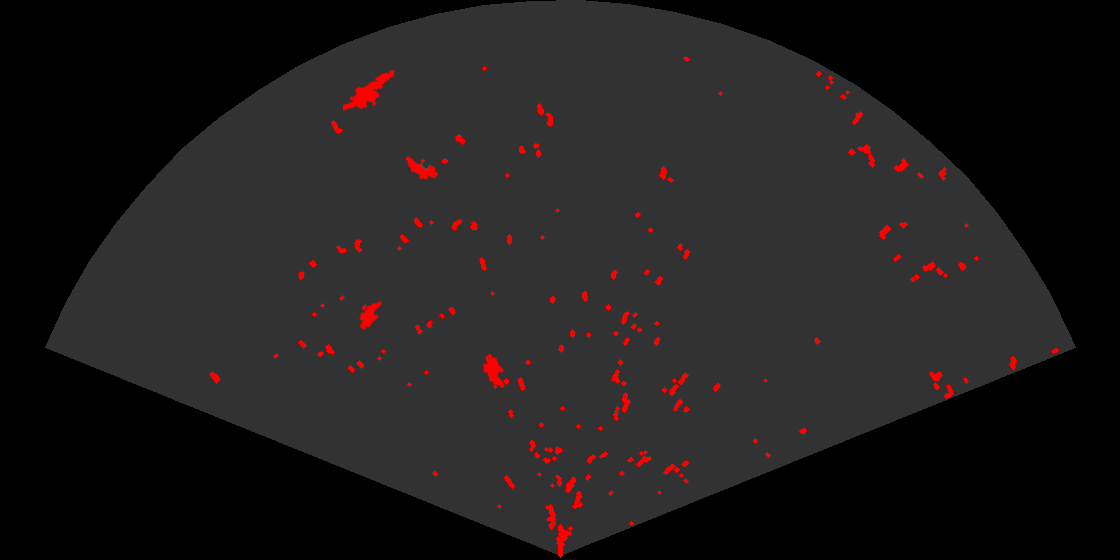AUV: (481, 352, 506, 390), (404, 155, 440, 181), (357, 300, 384, 331)
frogman: (343, 68, 397, 112)
